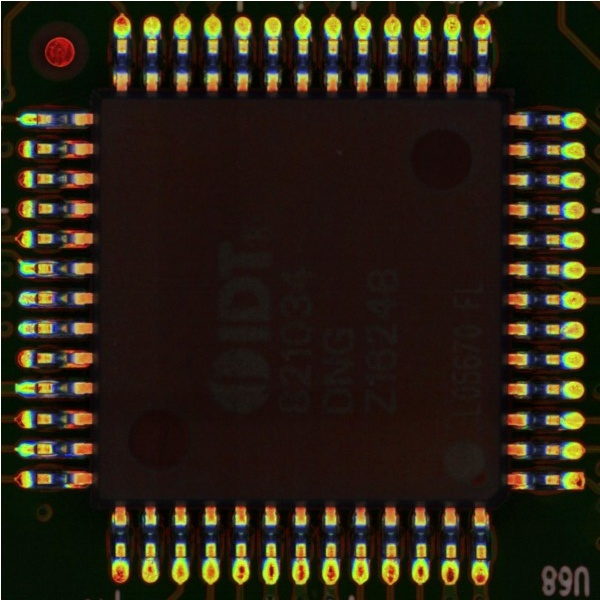Bad_podu: (27, 443, 44, 453), (28, 383, 45, 392), (27, 323, 44, 332), (29, 113, 44, 122), (28, 264, 46, 271), (27, 293, 44, 300)
